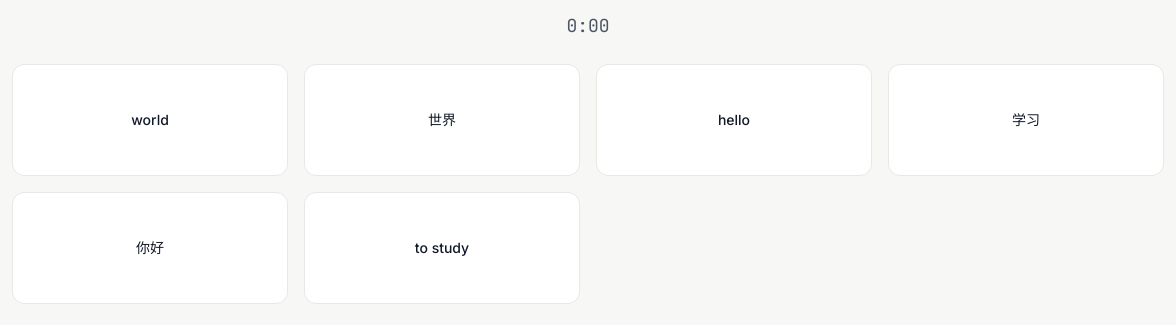
Test: FlashcardMatch › game complete when all matched
// Match all three pairs using fireEvent (no timer interaction)
Click the button "你好".
click(150, 248)  # box [12, 192, 288, 304]
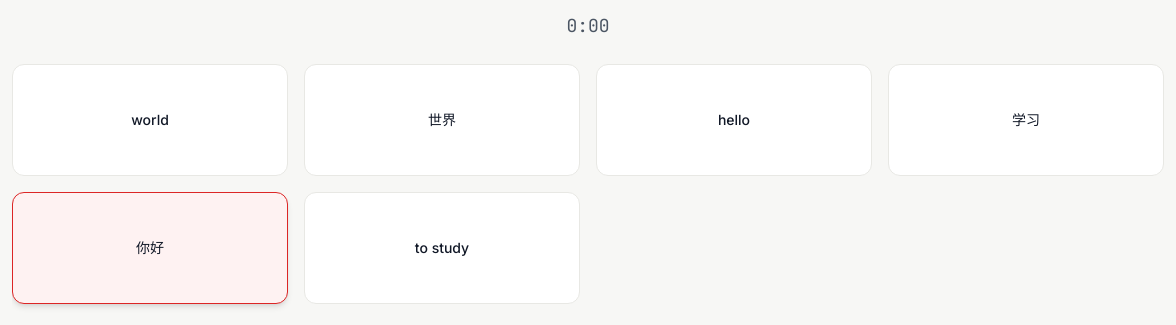
Click the button "hello".
click(734, 120)  # box [596, 64, 872, 176]
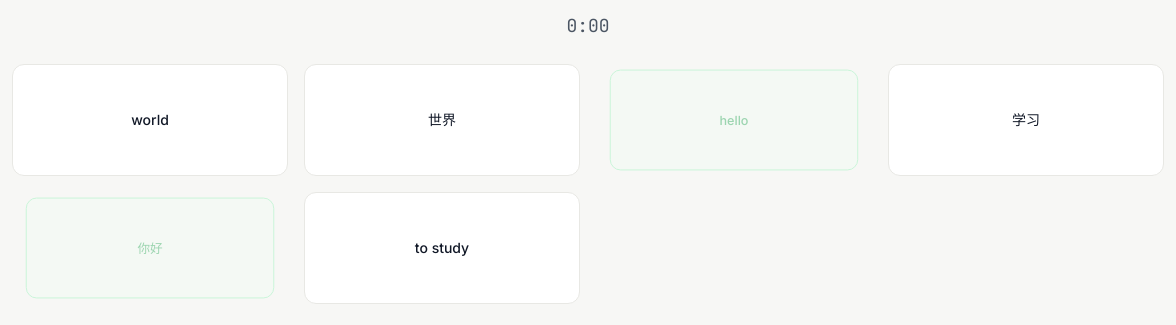
Click the button "世界".
click(442, 120)  # box [304, 64, 580, 176]
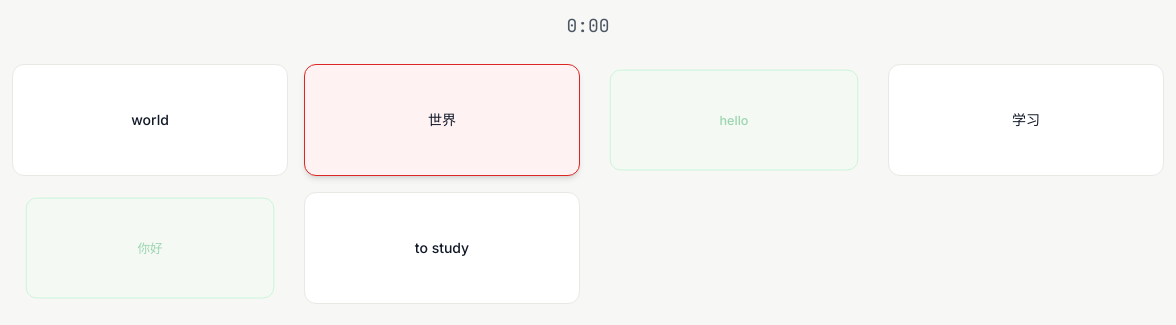
Click the button "world".
click(150, 120)  # box [12, 64, 288, 176]
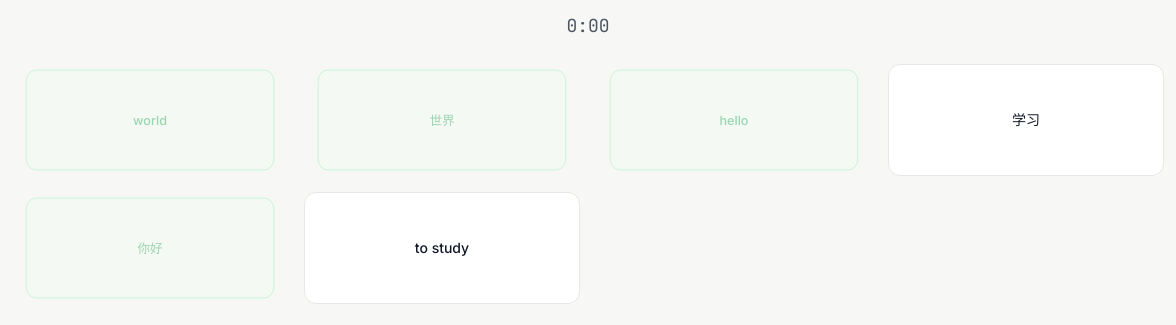
Click the button "学习".
click(1026, 120)  # box [888, 64, 1164, 176]
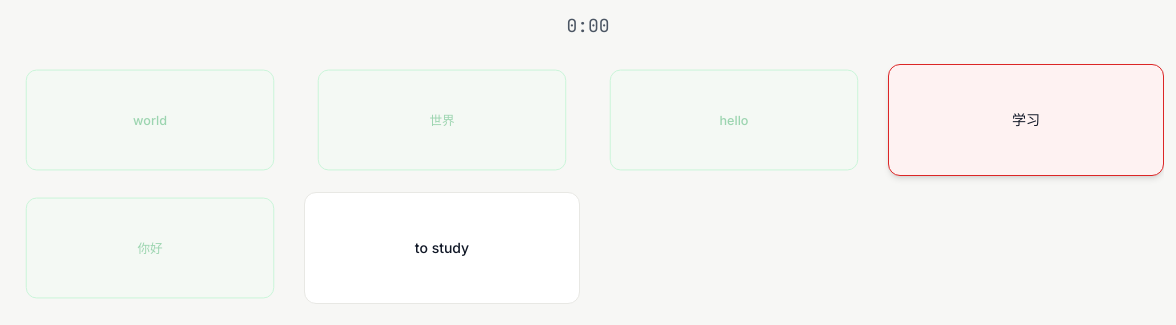
Click the button "to study".
click(442, 248)  # box [304, 192, 580, 304]
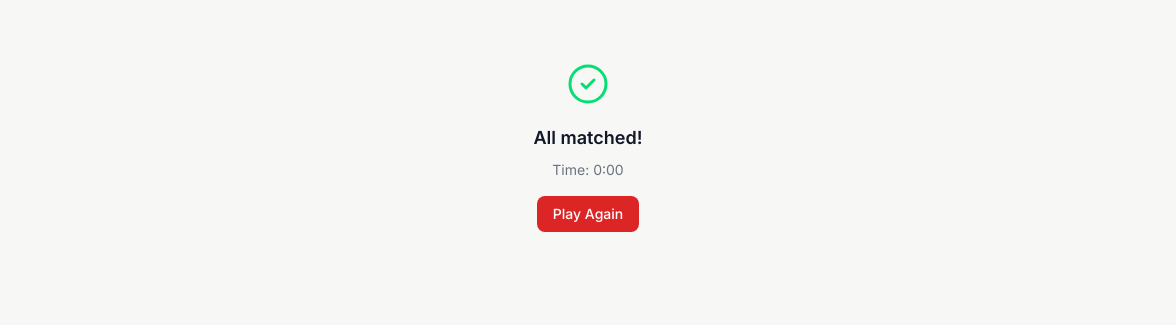
expect the heading "All matched!" is shown: met, box [534, 124, 642, 152]
